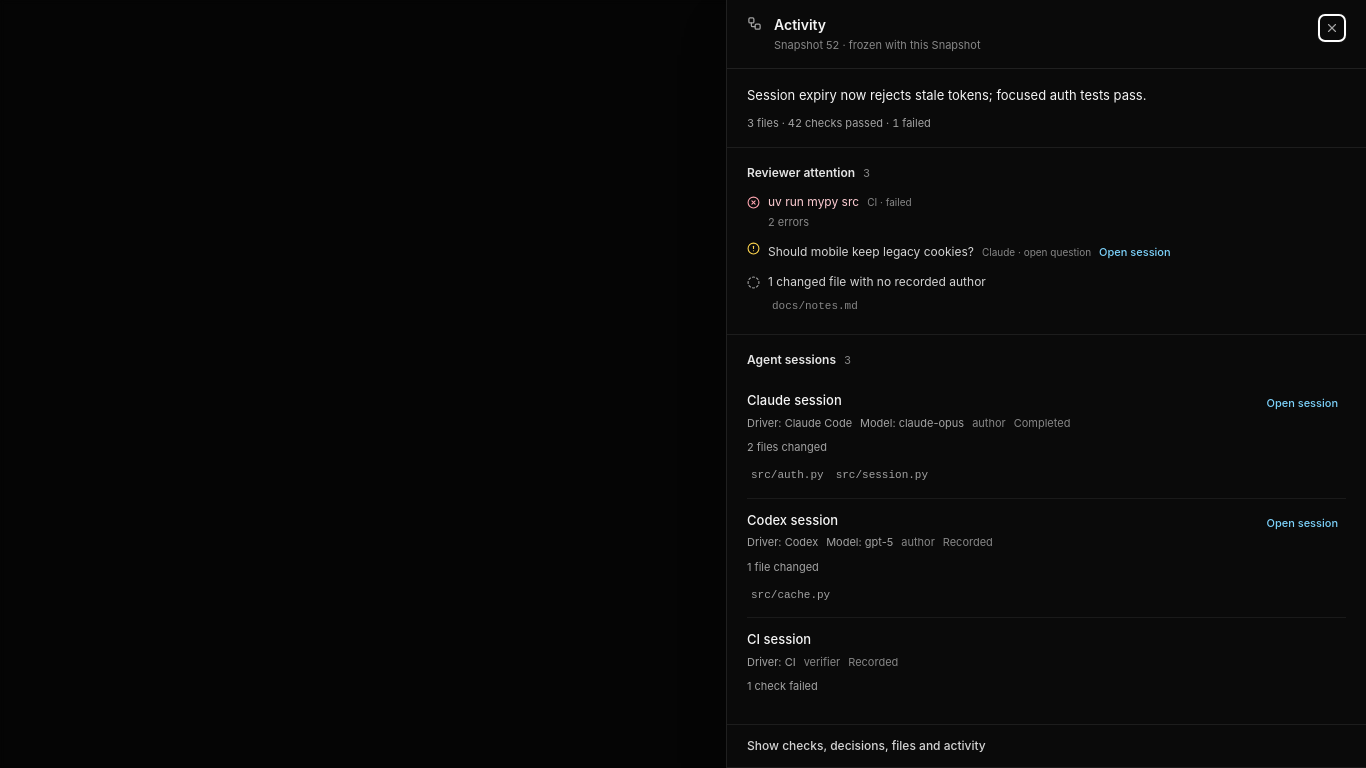
Agent actions outside the repository (Activity) › lists consequential actions in the Development sheet and the file Activity tab
The image size is (1366, 768).
Click the button "Show checks, decisions, files and activity": click(763, 746) [727,725,1365,767]
(page scrolled)
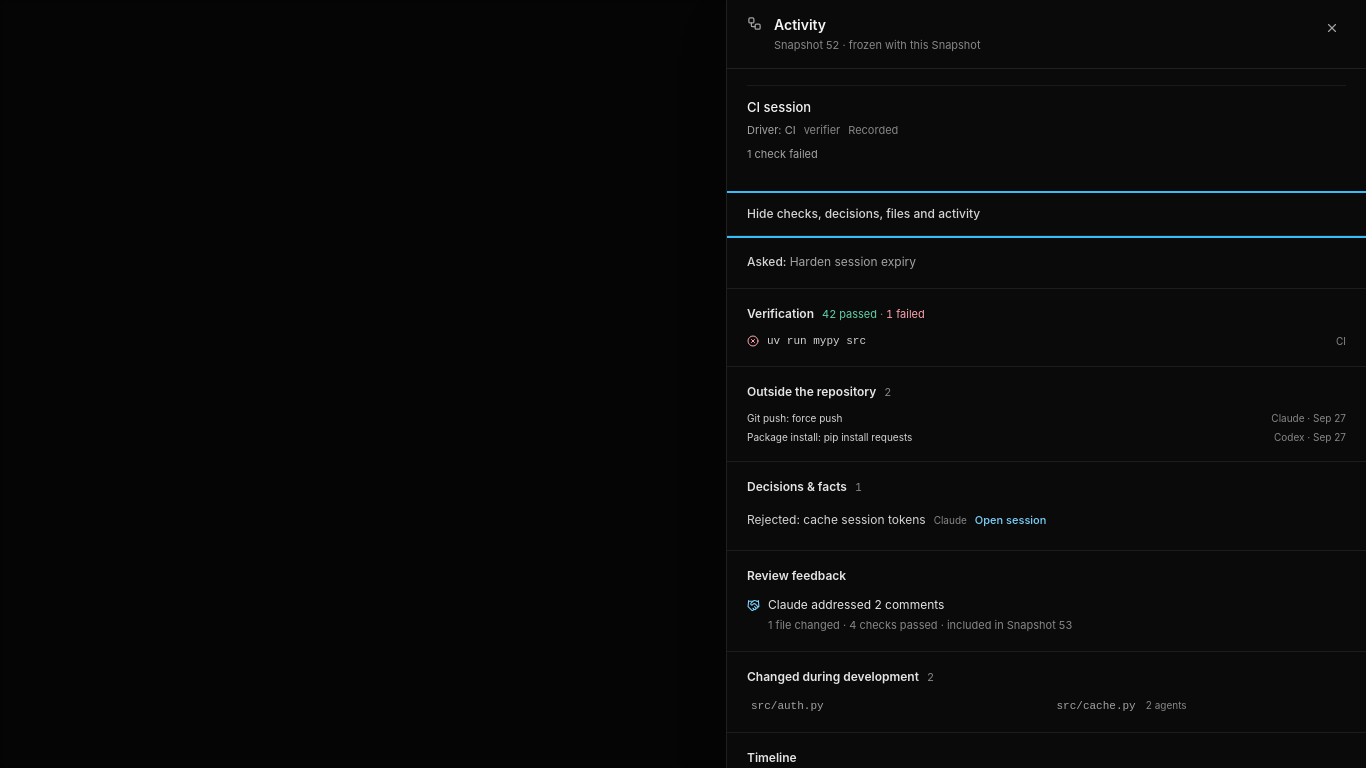
Now the heading "Outside the repository" is shown, box [747,382,876,400]
